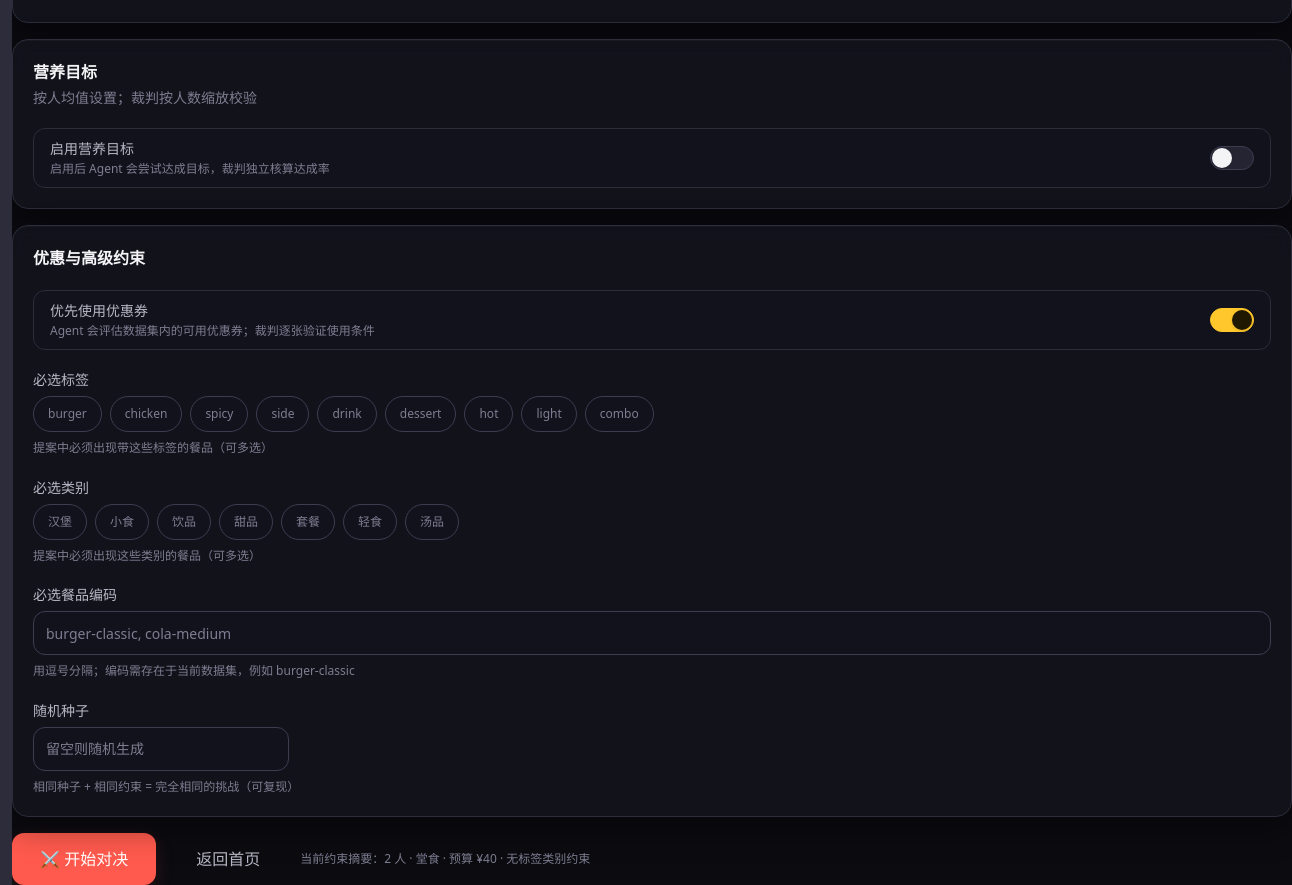
Test case: React UI › 挑战设置拒绝小数种子且不发起比赛
(page scrolled)
In the field with placeholder "留空则随机生成": (161, 748) [33,726,289,770], type "1.5"
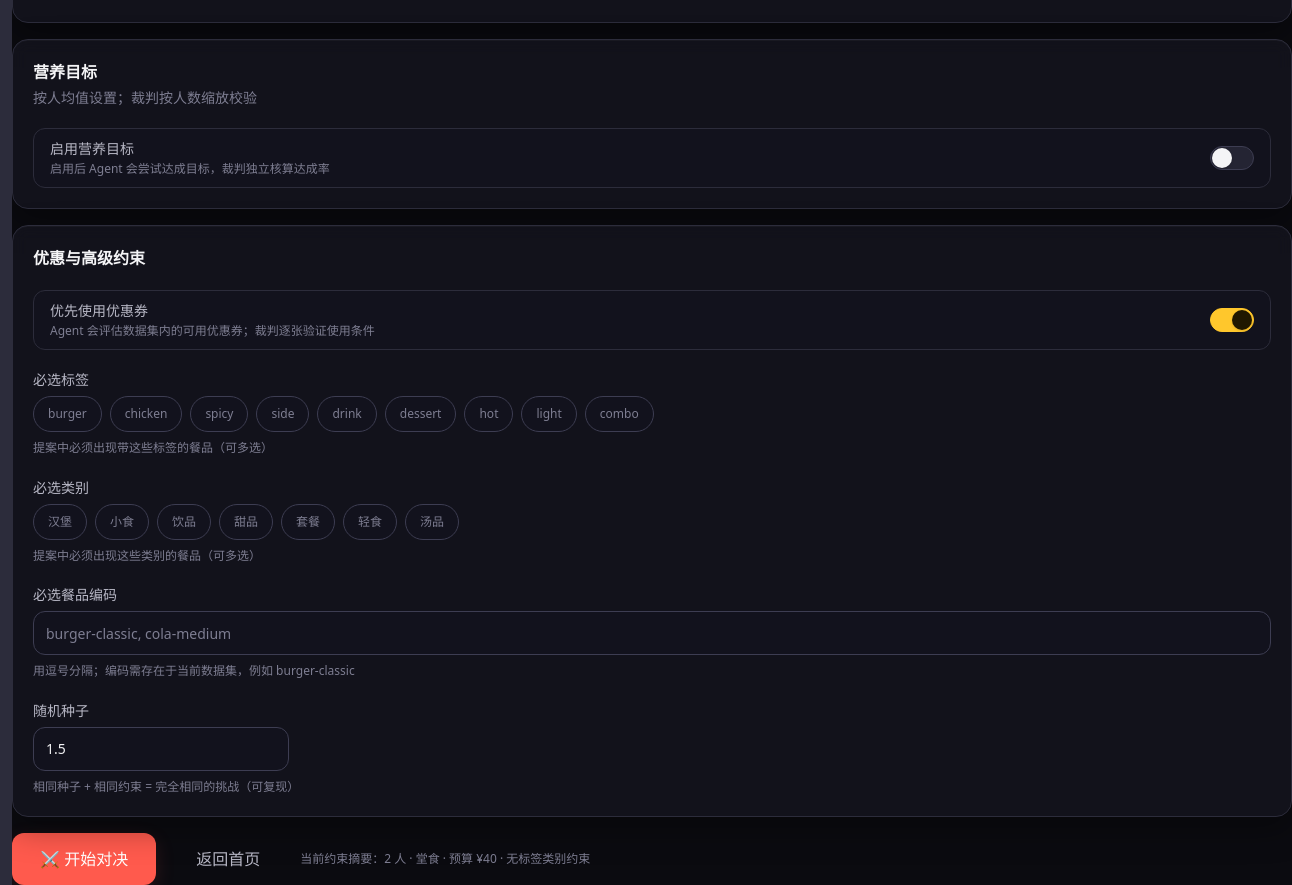
Click the button "⚔️ 开始对决": (84, 859) [12,833,156,884]
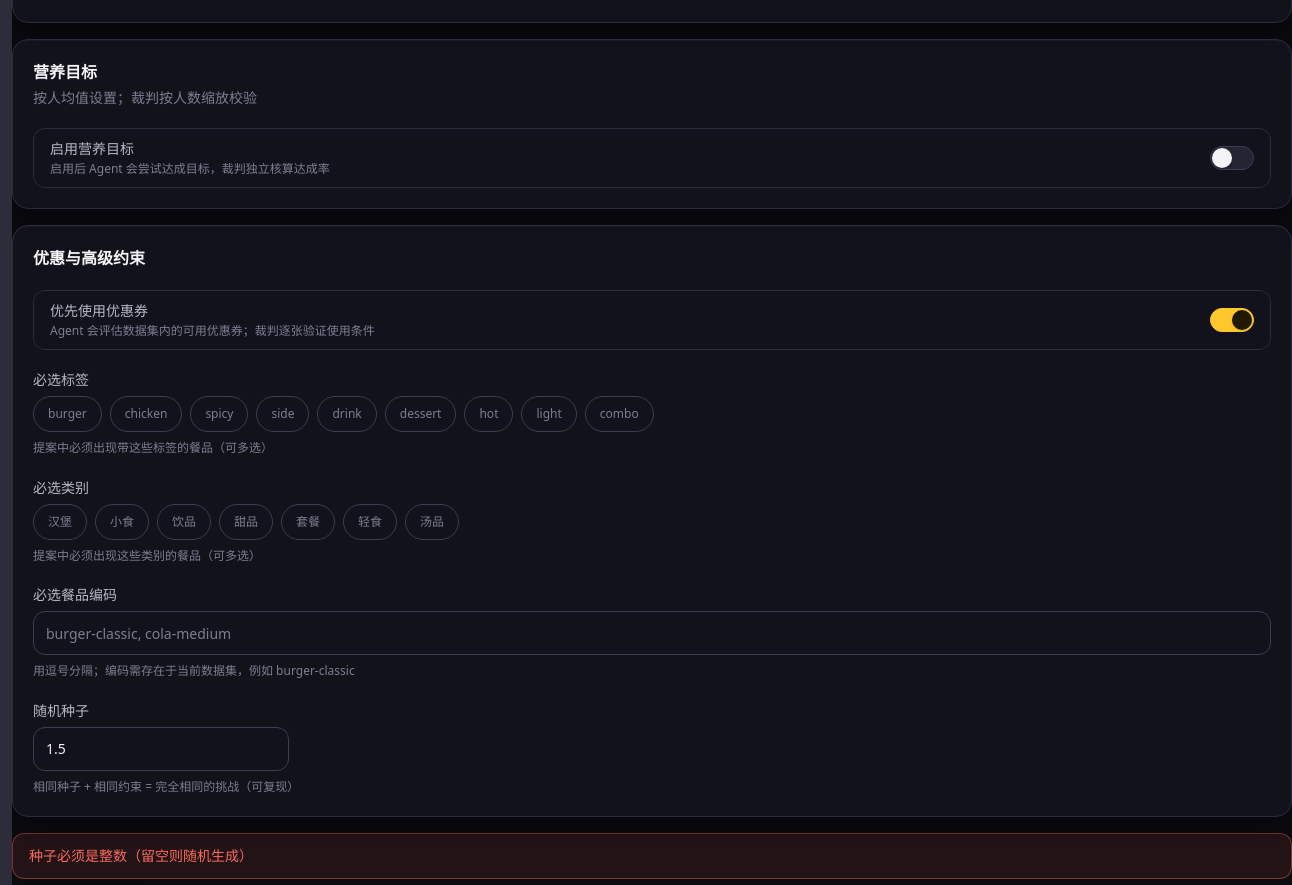
Now the message shows "种子必须是整数", box [29,846,253,865]
